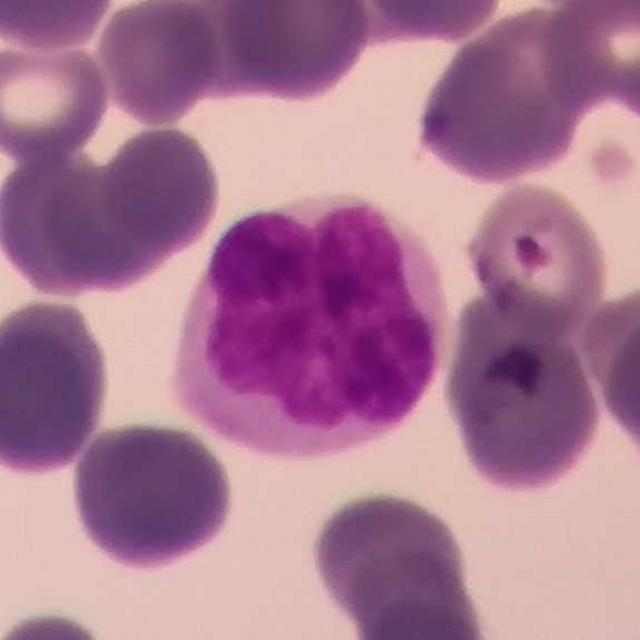Monocyte: (164, 185, 451, 464)
Platelets: (574, 130, 640, 198)
RBC: (438, 293, 606, 501), (412, 4, 596, 186), (67, 415, 240, 574), (32, 138, 200, 297), (459, 177, 613, 338), (305, 485, 472, 621), (0, 293, 116, 481), (93, 120, 225, 256), (0, 142, 109, 298), (215, 0, 375, 105), (92, 0, 224, 127), (329, 547, 500, 640), (0, 34, 114, 162), (535, 0, 640, 116), (590, 288, 640, 470), (346, 593, 499, 640), (340, 0, 510, 42), (1, 0, 120, 52), (0, 606, 118, 640)
